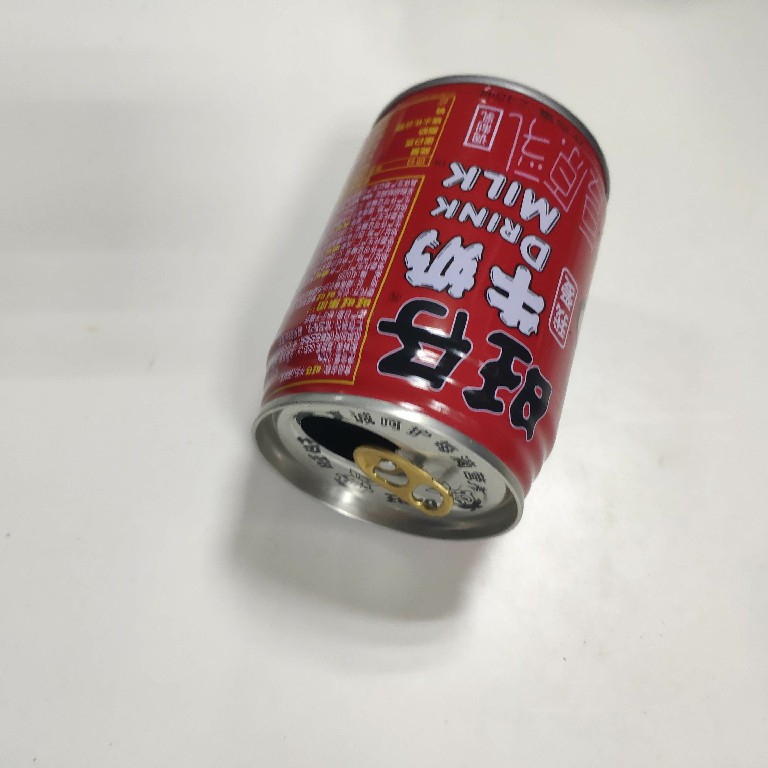can: (244, 68, 614, 544)
